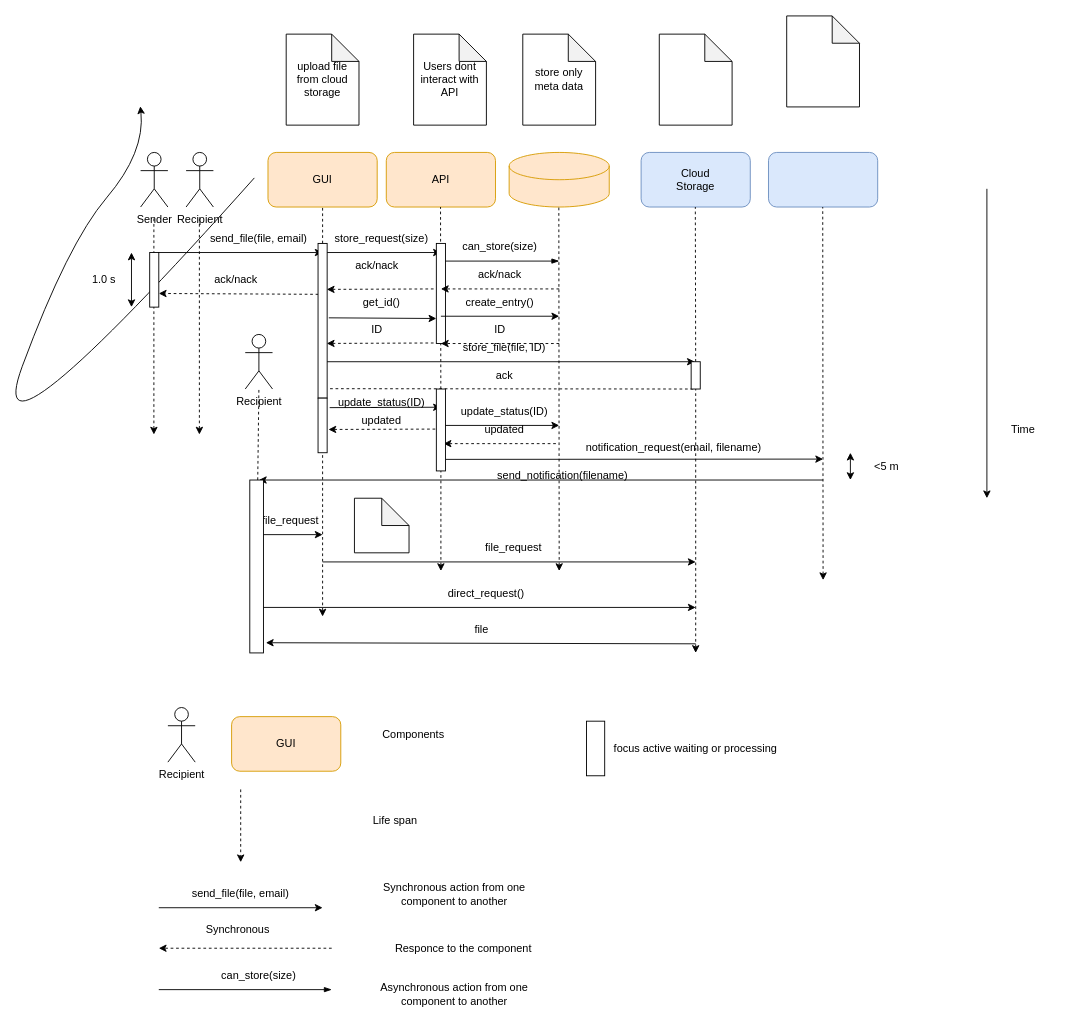
Image size: 1067x1024. Some labels were removed from this diagram. Here are the shapes that lost their labels. From the top down, the centre of each, then its label:
At (x=558, y=179): "Database".
At (x=823, y=179): "Email Storage".
At (x=381, y=525): "missed action for refactor".
